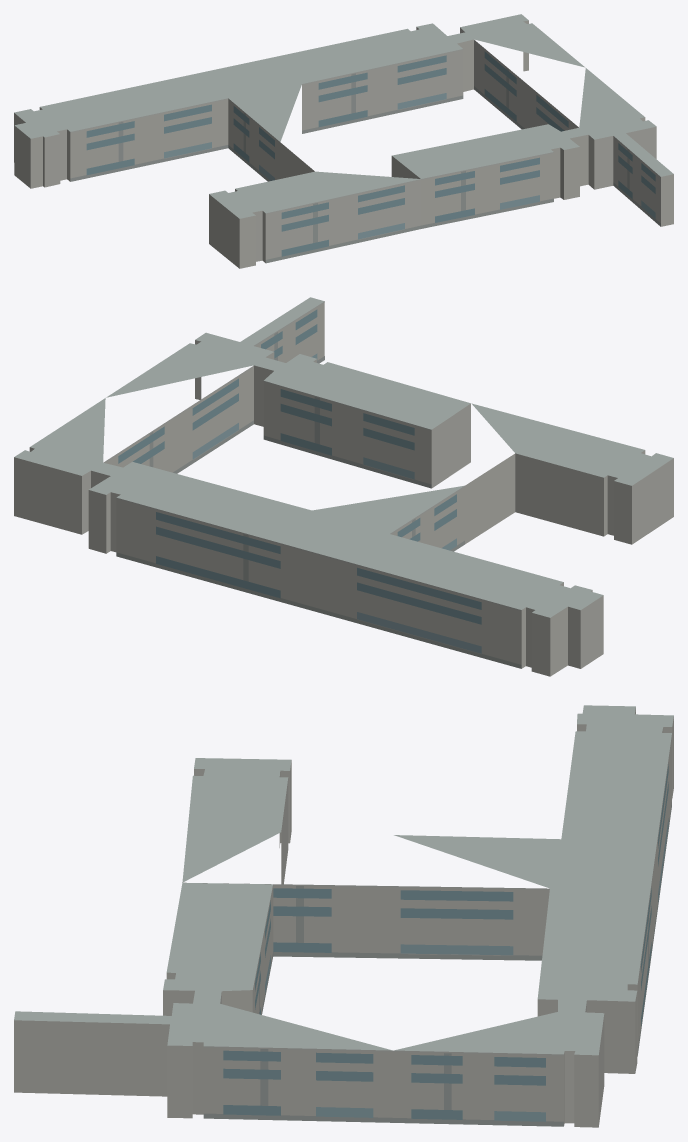
The model's file is survey-upis-32558180.glb.
3 renders of one model, top to bottom at view 1: azimuth 30°, elevation 25°; view 2: azimuth 150°, elevation 25°; view 3: azimuth 270°, elevation 25°, orthographic. The views are drawn at different scales.
Parts seen in each view (by area): view 1: survey-upis-32558180.tmp; view 2: survey-upis-32558180.tmp; view 3: survey-upis-32558180.tmp.
Boxes of the visible parts, x1=… form: survey-upis-32558180.tmp: x1=14, y1=14, x2=673, y2=268; survey-upis-32558180.tmp: x1=14, y1=297, x2=673, y2=676; survey-upis-32558180.tmp: x1=14, y1=705, x2=673, y2=1127.
Size of the model in its own units: 127 by 12.2 by 101.
